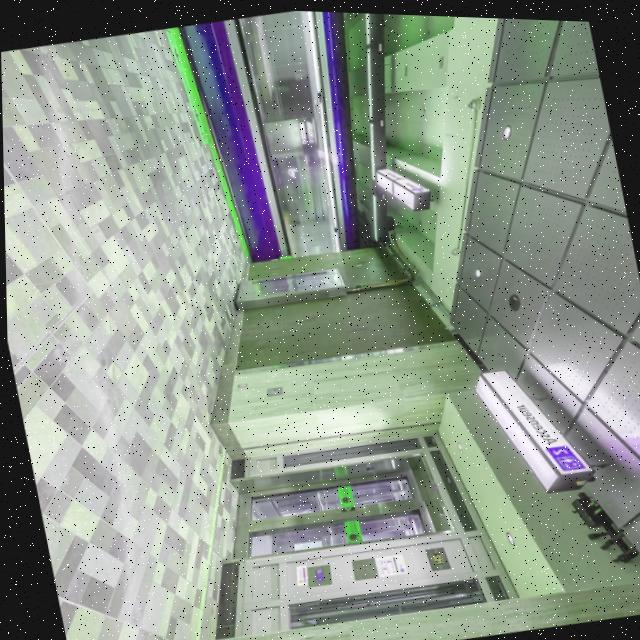elevator: (554, 454, 581, 472)
